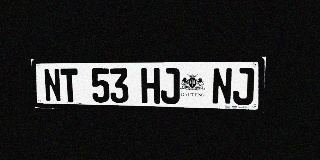3: (109, 68, 128, 103)
5: (91, 68, 110, 103)
H: (141, 68, 160, 104)
J: (232, 68, 254, 105), (160, 68, 180, 104)
N: (212, 68, 233, 105), (43, 68, 62, 102)
T: (60, 68, 79, 102)
